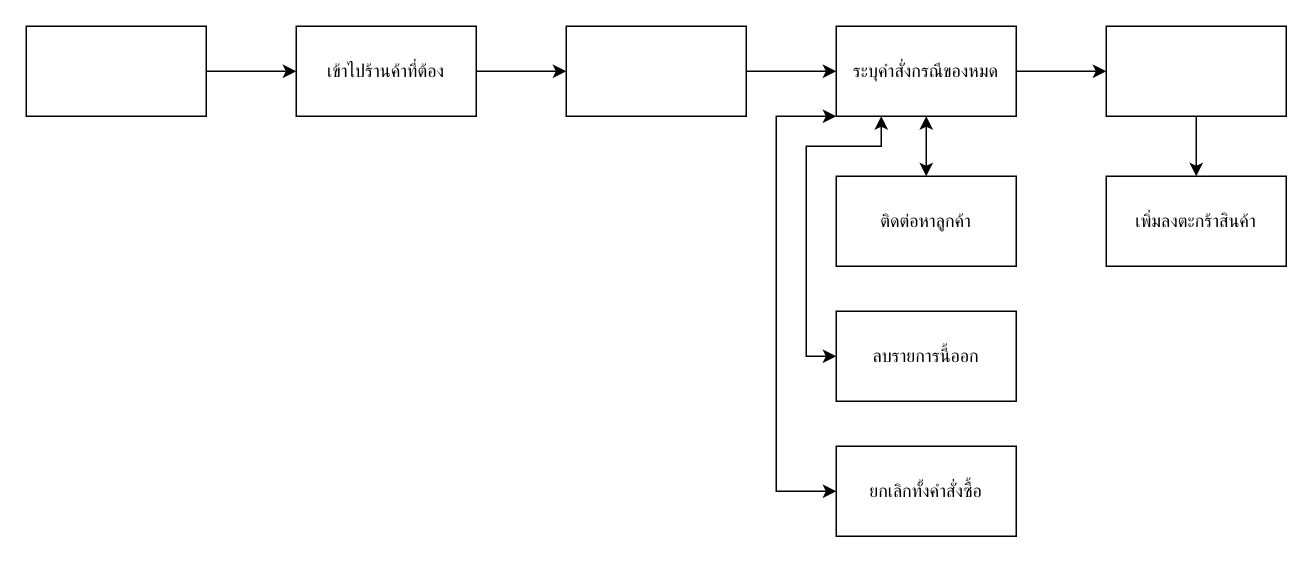
Some shapes in this 1313 by 563 pixel diagram are drawn without their labels. Each missing label, with the centre of its shape:
"ระบุจำนวนที่ต้องการ" goes at point (1195, 70).
"เพิ่มรายการอาหารหรือเครื่องดื่ม" goes at point (115, 70).
"เลือกสินค้าที่ต้องการ" goes at point (655, 70).
